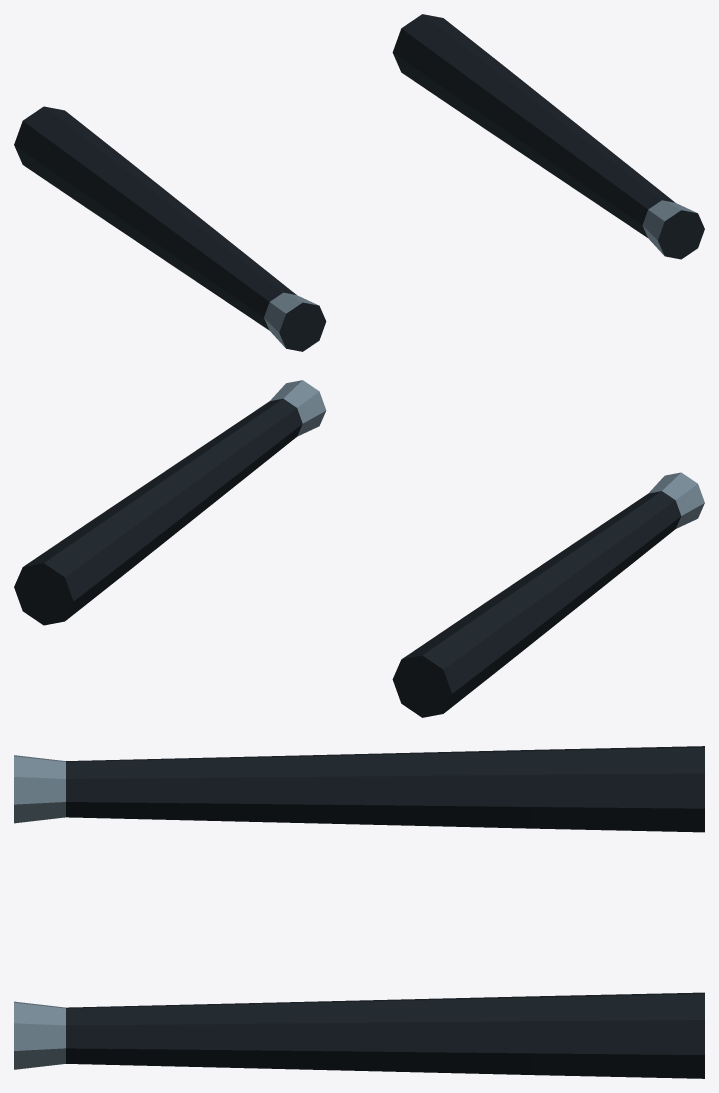
The model's file is FangFireBarrelsExposed.obj.
3 renders of one model, top to bottom at view 1: azimuth 30°, elevation 25°; view 2: azimuth 150°, elevation 25°; view 3: azimuth 270°, elevation 25°, orthographic. The views are drawn at different scales.
Visible parts, largest first — view 1: port_cannon, starboard_cannon; view 2: starboard_cannon, port_cannon; view 3: port_cannon, starboard_cannon.
Part boxes in pixels (x1=…): port_cannon: x1=14, y1=106, x2=326, y2=351; starboard_cannon: x1=392, y1=14, x2=704, y2=259; starboard_cannon: x1=14, y1=380, x2=326, y2=625; port_cannon: x1=392, y1=472, x2=704, y2=717; port_cannon: x1=14, y1=746, x2=704, y2=832; starboard_cannon: x1=14, y1=992, x2=704, y2=1078.
Bounding box in the file's own units: 1.69 × 0.23 × 1.73.
